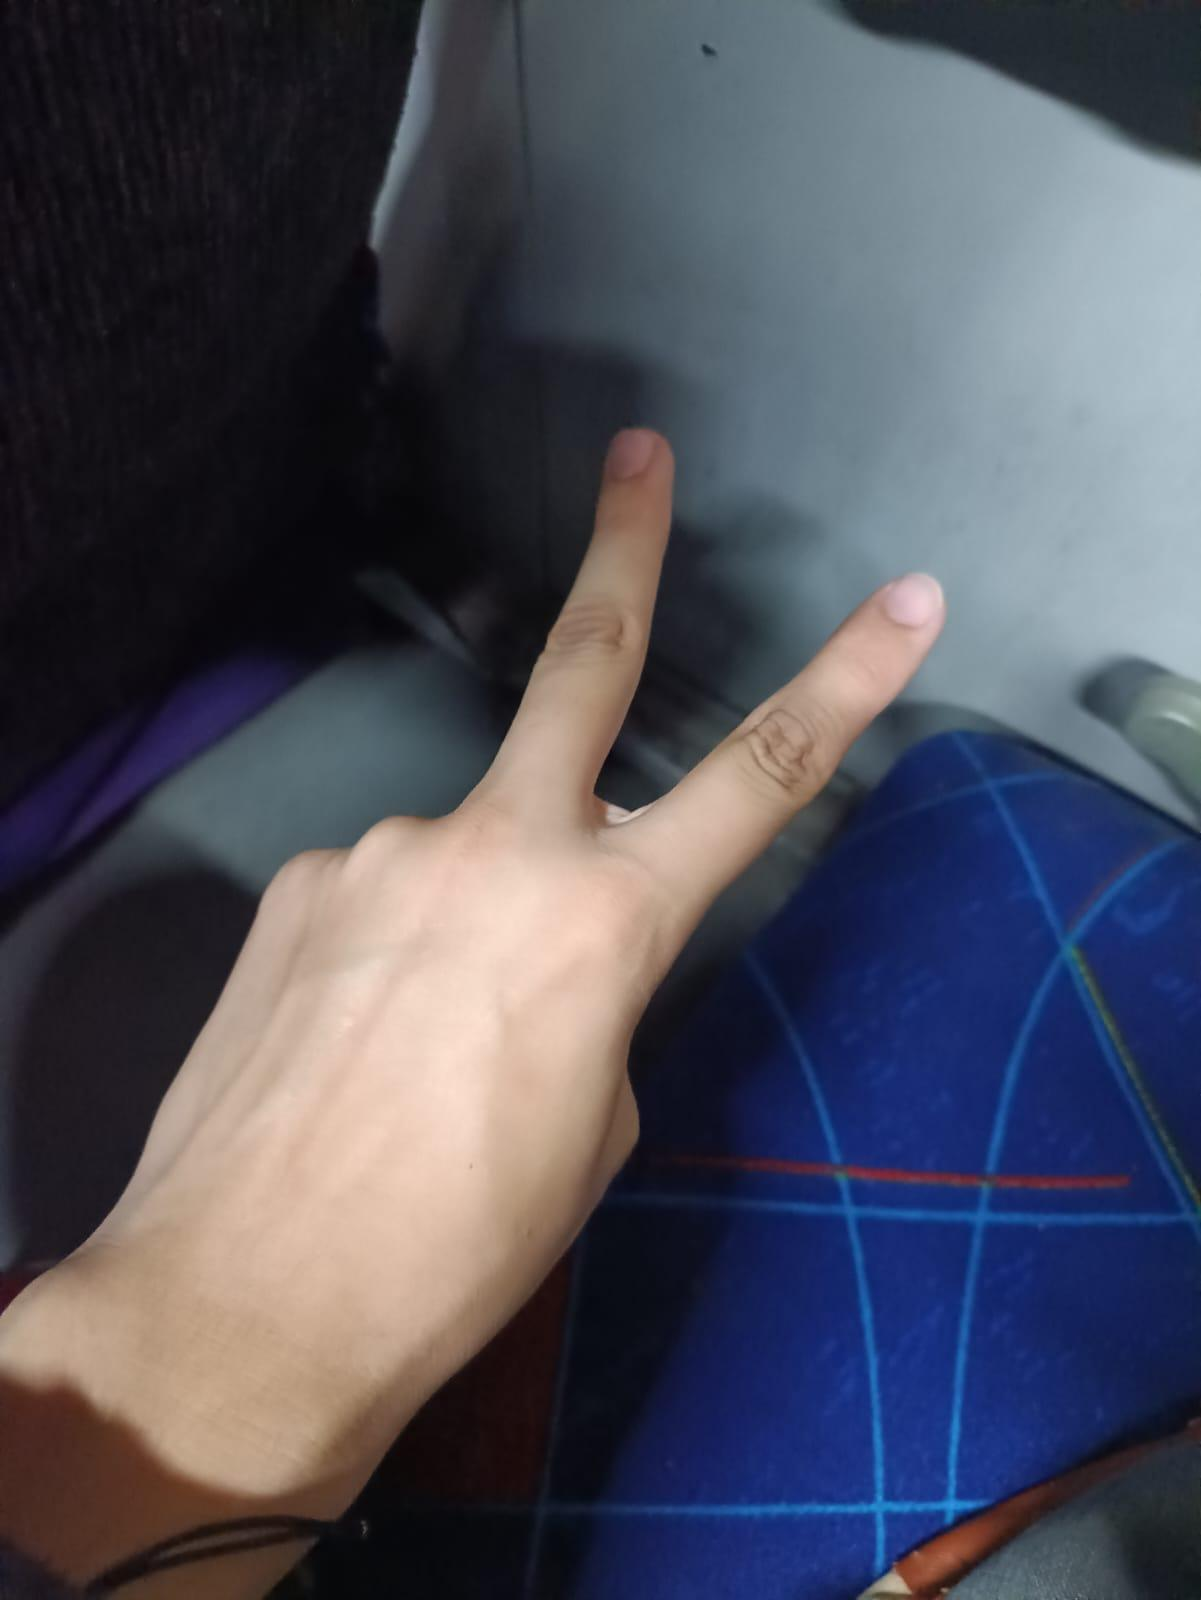Scissor: (0, 339, 1023, 1590)
